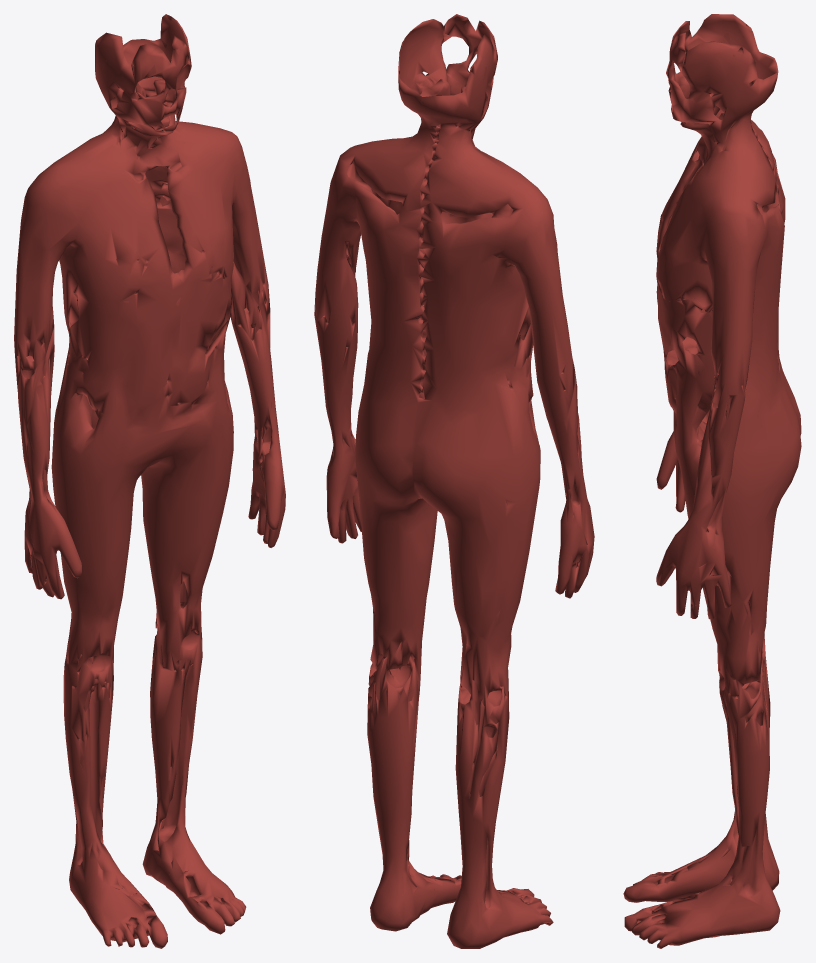
File: pediatric_adolescent_male.muscular.LOD2.glb
The picture shows the model from 3 angles, left to right: view 1: azimuth 30°, elevation 25°; view 2: azimuth 150°, elevation 25°; view 3: azimuth 270°, elevation 25°; orthographic projection. The views are drawn at different scales.
Visible parts, largest first — view 1: PEDIATRIC.ADOLESCENT.MALE.MUSCULAR.MUSCLE; view 2: PEDIATRIC.ADOLESCENT.MALE.MUSCULAR.MUSCLE; view 3: PEDIATRIC.ADOLESCENT.MALE.MUSCULAR.MUSCLE.
Boxes of the visible parts, <box> form: PEDIATRIC.ADOLESCENT.MALE.MUSCULAR.MUSCLE: <box>14,14,285,948</box>; PEDIATRIC.ADOLESCENT.MALE.MUSCULAR.MUSCLE: <box>314,14,594,948</box>; PEDIATRIC.ADOLESCENT.MALE.MUSCULAR.MUSCLE: <box>623,14,801,948</box>.
Bounding box in the file's own units: 0.4872 × 1.64 × 0.2965.
